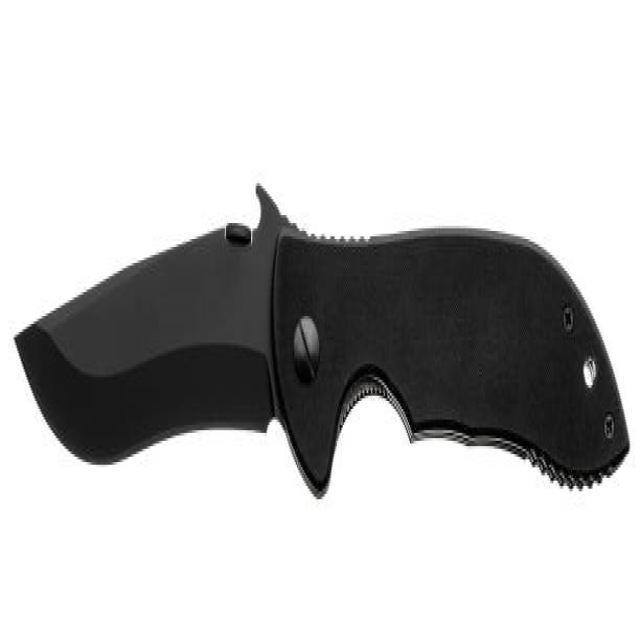knife: (14, 175, 636, 568)
